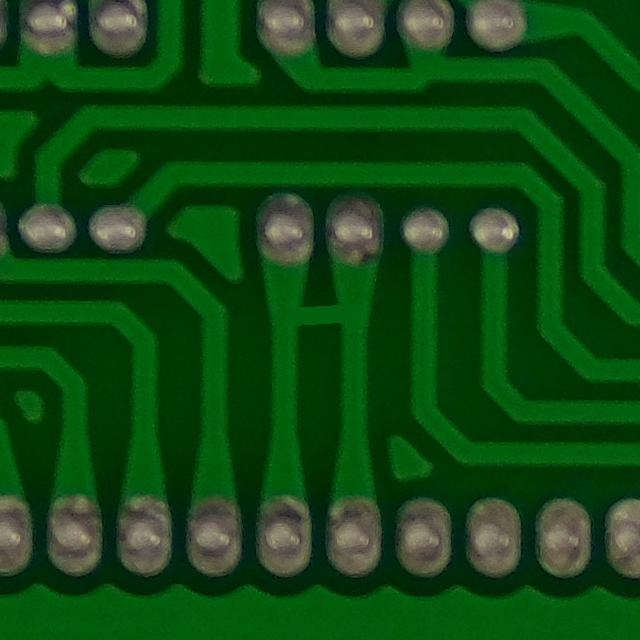short: (264, 281, 376, 360)
